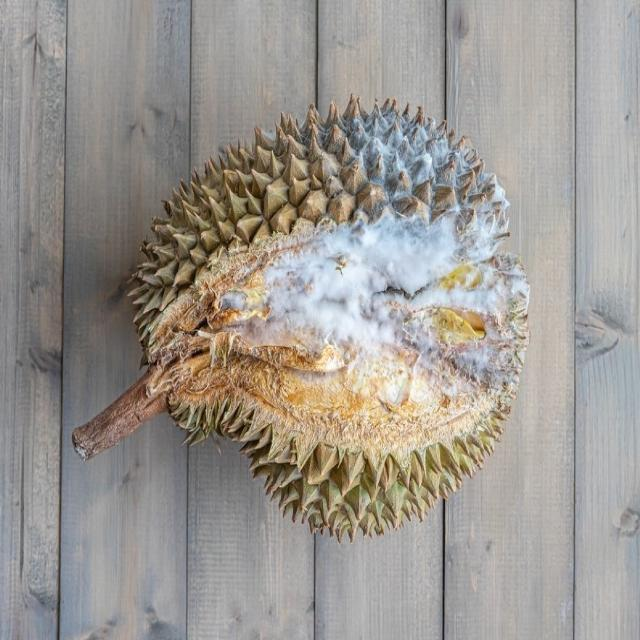defective: (126, 97, 534, 539)
